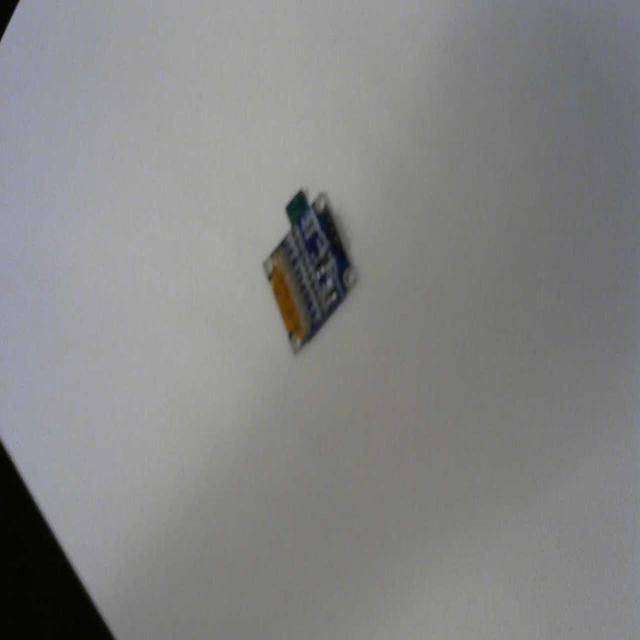oled: (257, 176, 361, 367)
